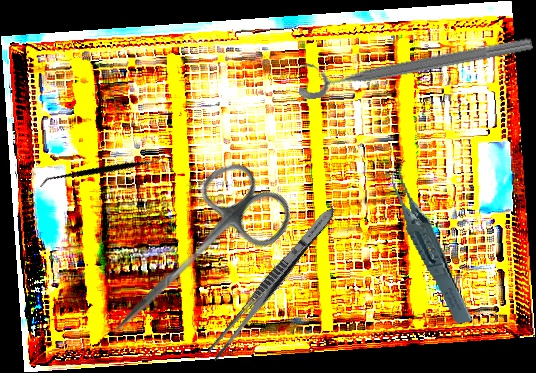Dressing Forceps: (204, 202, 340, 364)
Fixation Ring: (293, 18, 535, 102)
Iris Scissors: (81, 149, 302, 370)
Spatula Surgical: (38, 108, 167, 234)
Tissue Forceps: (388, 155, 474, 332)
